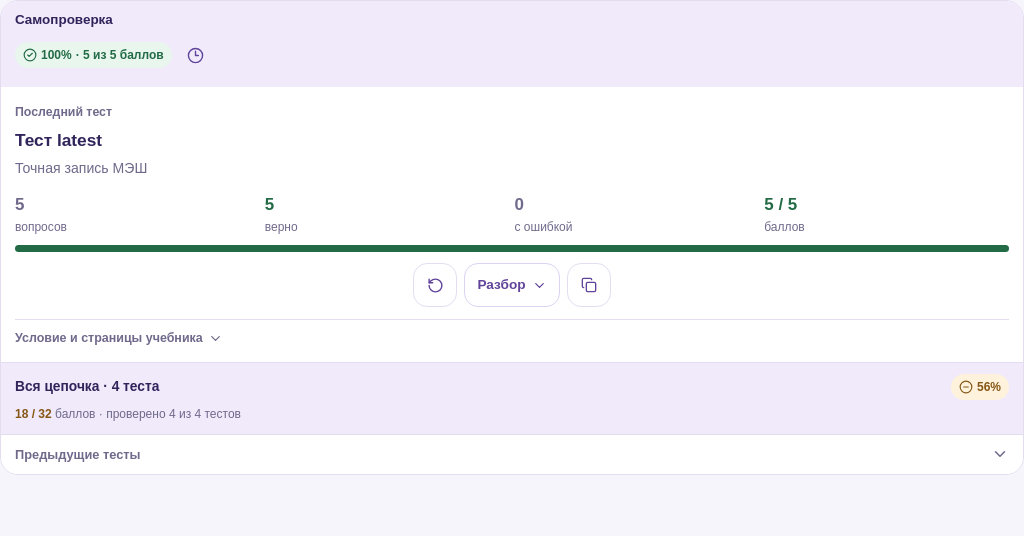
Test case: approved compact quiz table › requests once after 100% and keeps earned results intact
Click the button named "Создать новый тест с учётом всех попыток" at (436, 285), box [414, 263, 458, 307]
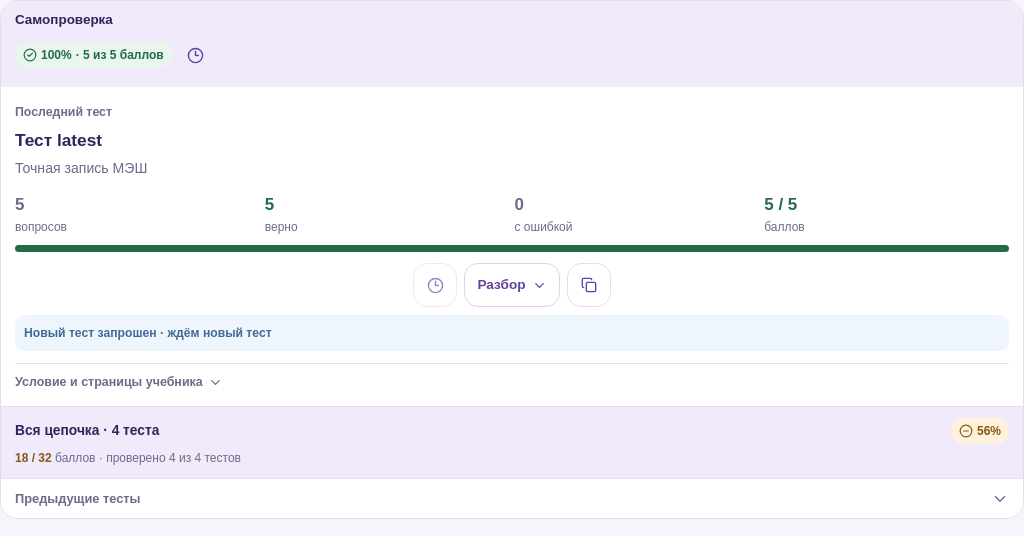
Expected: the element with class "day-quiz-lineage-score" shows "100%", [41, 48, 72, 62]
Result: the button named "Создать новый тест с учётом всех попыток" is disabled at [414, 263, 458, 307]
Result: the message with class "day-quiz-request-state" shows "Новый тест запрошен" at [24, 326, 272, 340]
